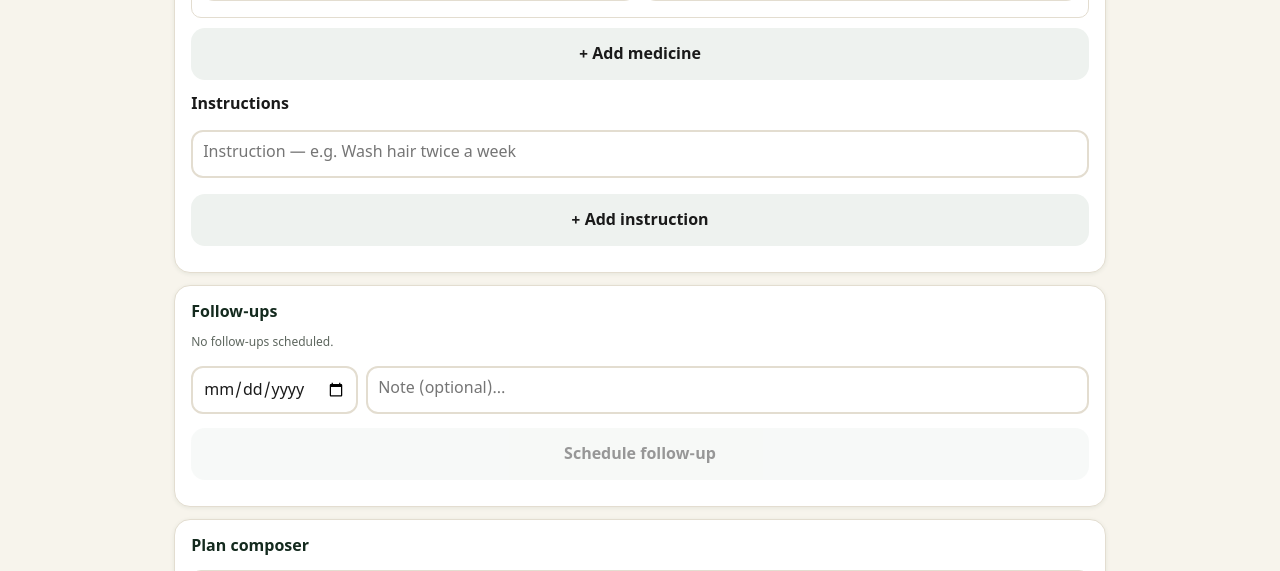
DoctorCase — follow-up scheduling › schedules a follow-up for this case and lists it
The width and height of the screenshot is (1280, 571).
(page scrolled)
Expected: the heading "Follow-ups" is shown, [191,302,277,324]
Type "2030-02-01" into the date field named "Due date" at coordinates (275, 390), box [191,366,358,414]
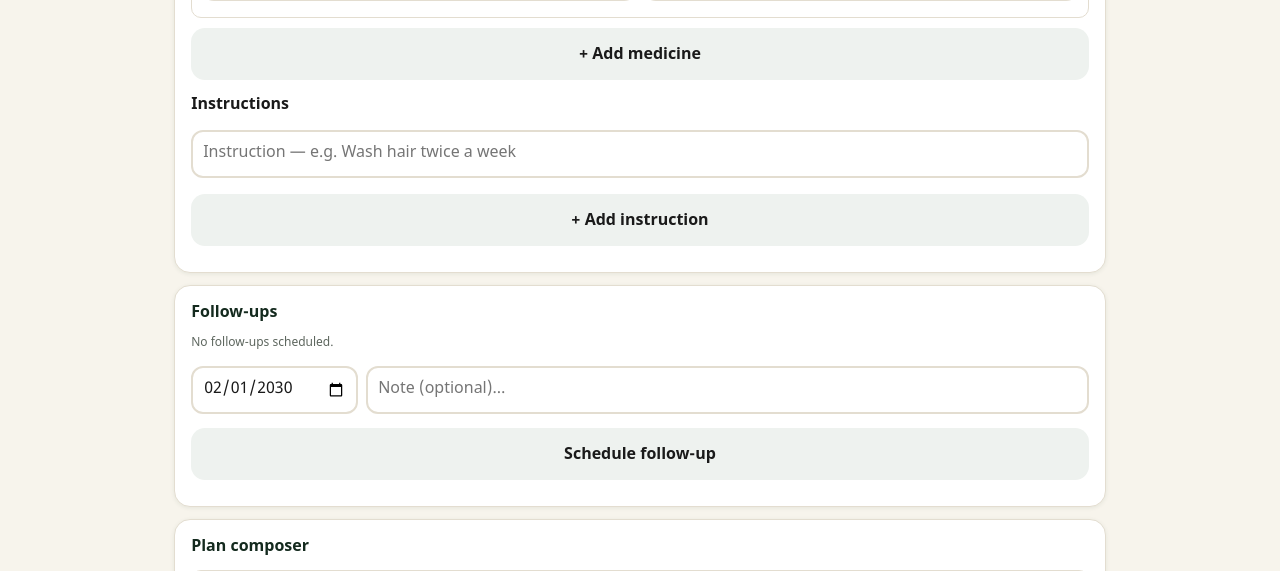
Type "recheck shedding" into the field with placeholder "Note (optional)…" at coordinates (728, 390), box [366,366,1089,414]
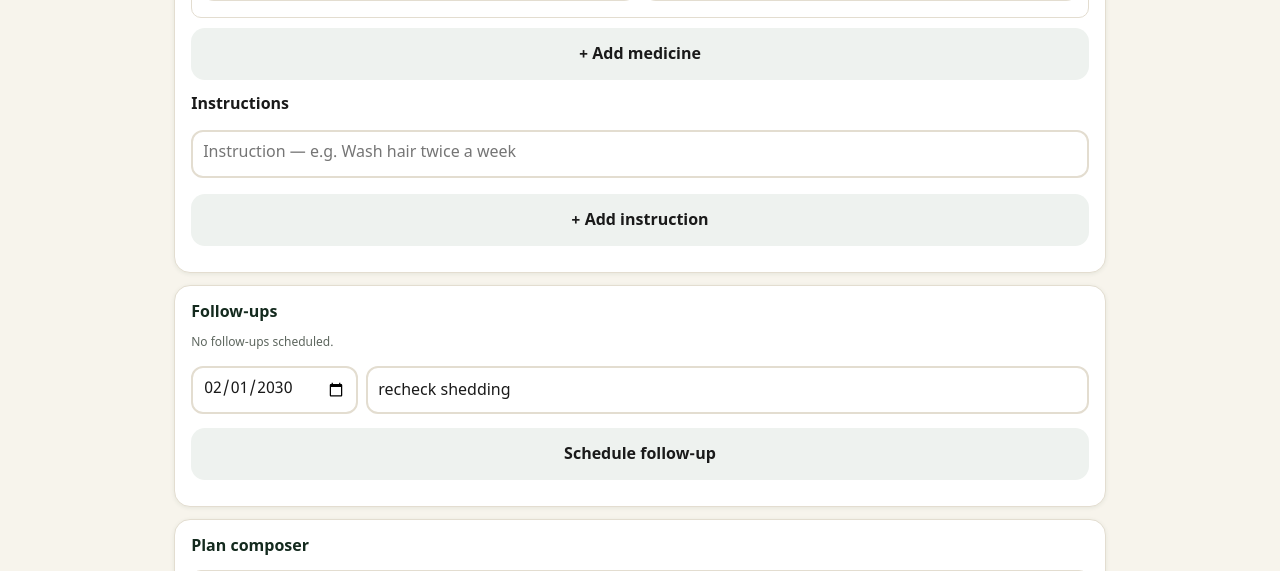
Click the button "Schedule follow-up" at coordinates (640, 454), box [191,428,1089,480]
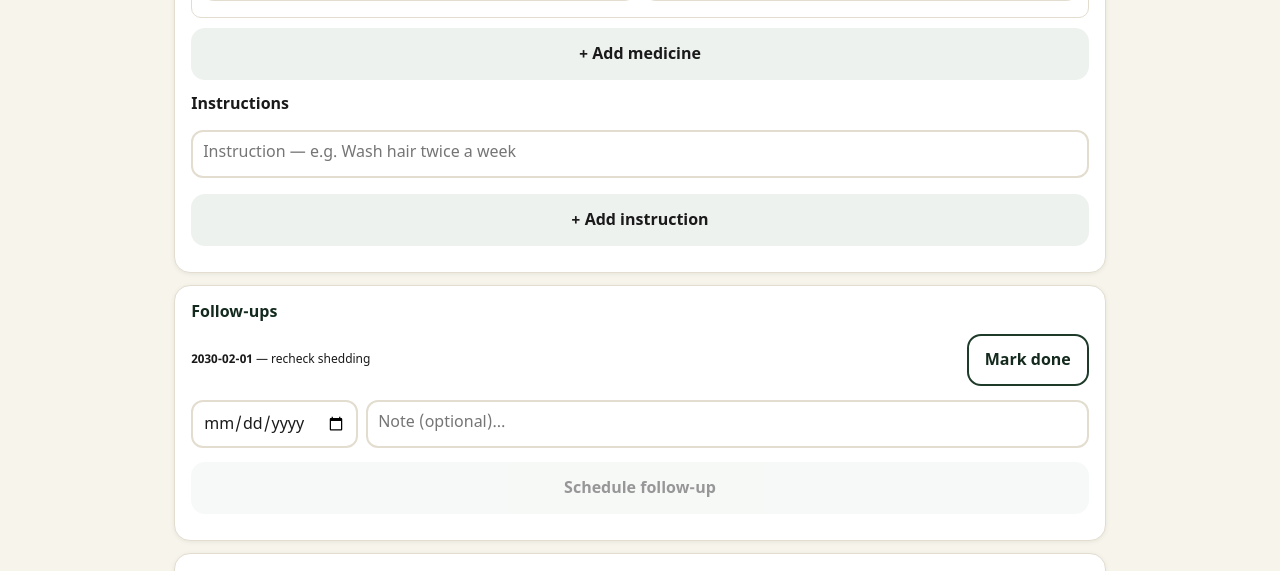
Now the text "2030-02-01" is shown, box [191,352,253,368]
